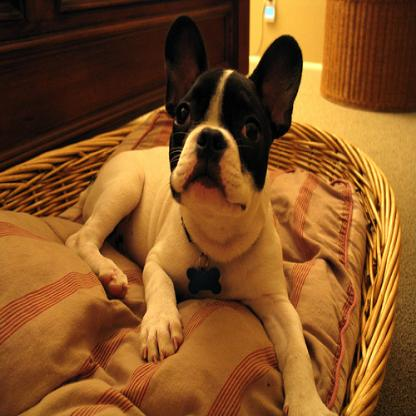French_bulldog: (63, 11, 337, 414)
